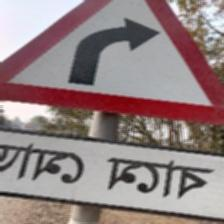Left-Turn: (0, 1, 222, 221)
